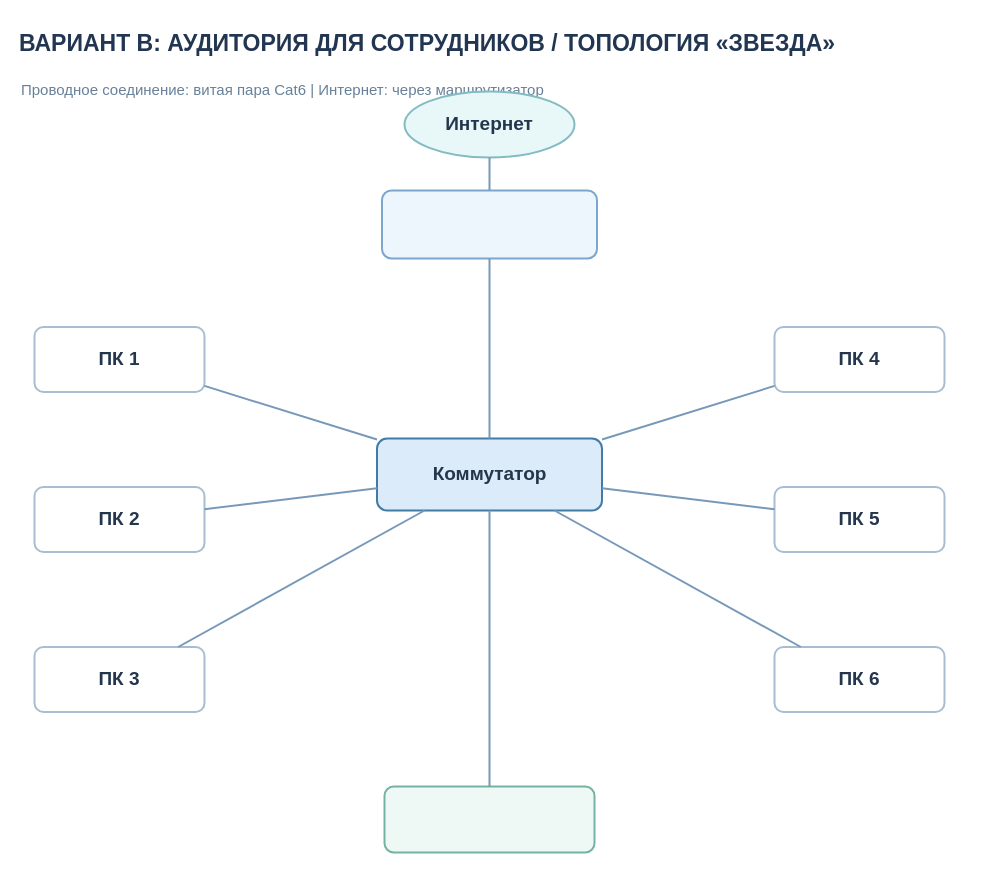
The diagram is 994 pixels wide and 870 high, and some of its shapes have lost their labels. The box of each missing label's shape, as (x1, y1, x2, y2) in pixels:
Маршрутизатор: (380, 189, 598, 259)
Сетевое МФУ: (383, 785, 595, 853)
